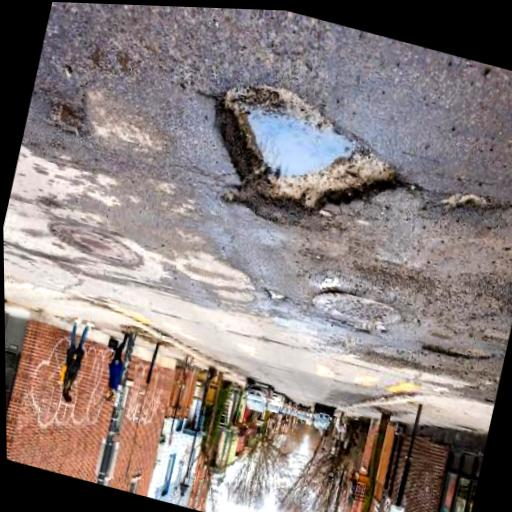pothole: (187, 67, 415, 257), (418, 330, 497, 375), (39, 88, 98, 145), (437, 183, 493, 225), (260, 285, 291, 310)
